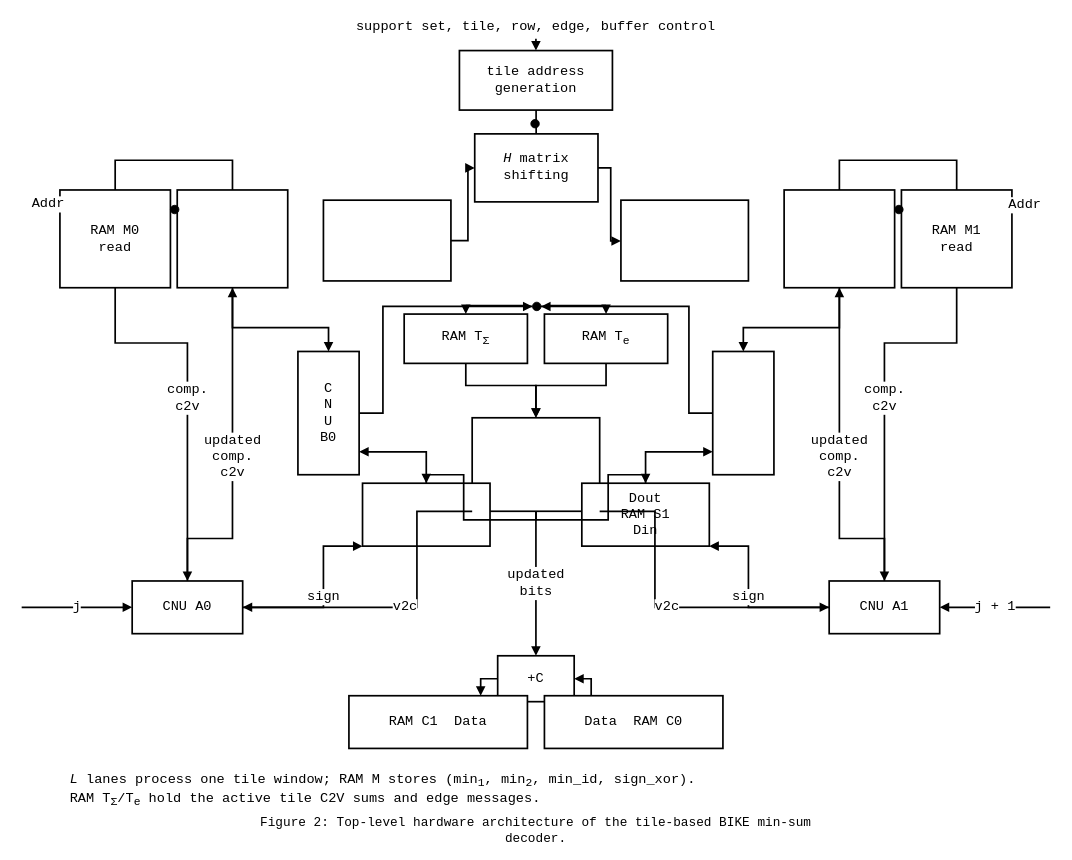
The diagram is 1072 pixels wide and 860 high, and some of its shapes have lost their labels. Here are the shapes that lost their labels. From the top down, the box of each, then its label:
(176, 189, 288, 288): RAM M2 write
(322, 199, 451, 281): Dout Din RAM I0
(620, 199, 749, 281): Din Dout RAM I1
(783, 189, 895, 288): RAM M3 write
(711, 350, 774, 475): C N U B1
(471, 416, 600, 512): VNU & A Post. Info. Comp.
(361, 482, 490, 547): Dout RAM S0 Din
